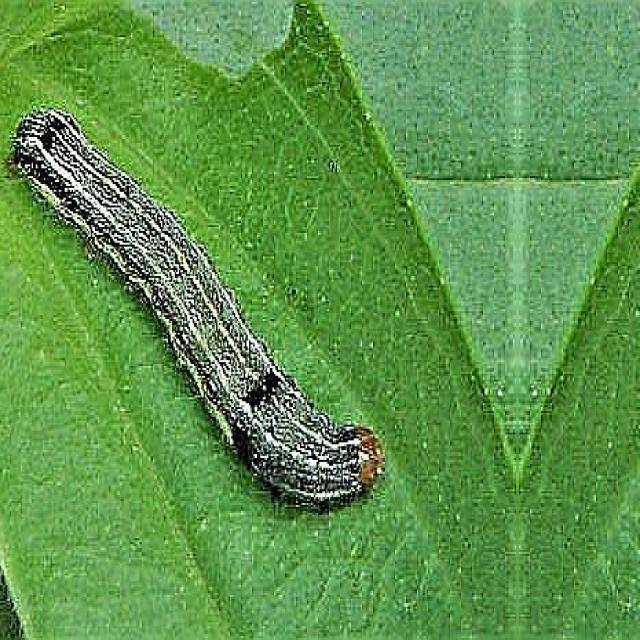Armyworm: (12, 94, 389, 543)
